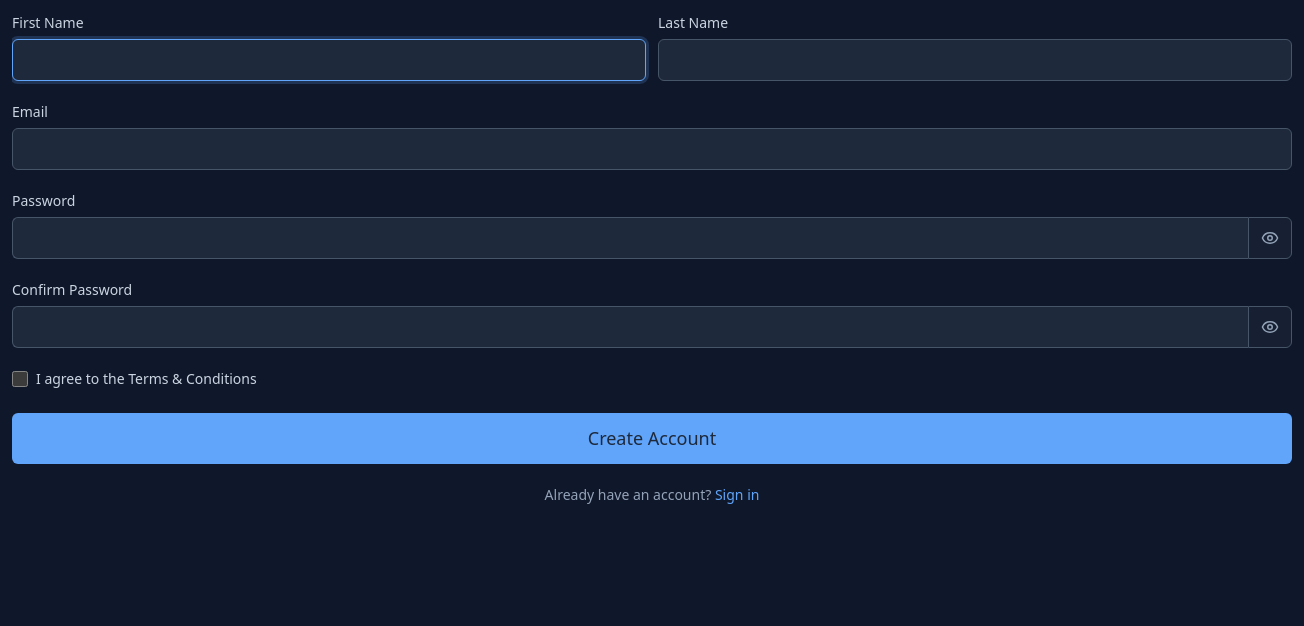
Test: RegisterForm › validation › shows email required error when submitted empty
The image size is (1304, 626).
Click the button "Create Account" at point(652, 438), box [12, 413, 1292, 464]
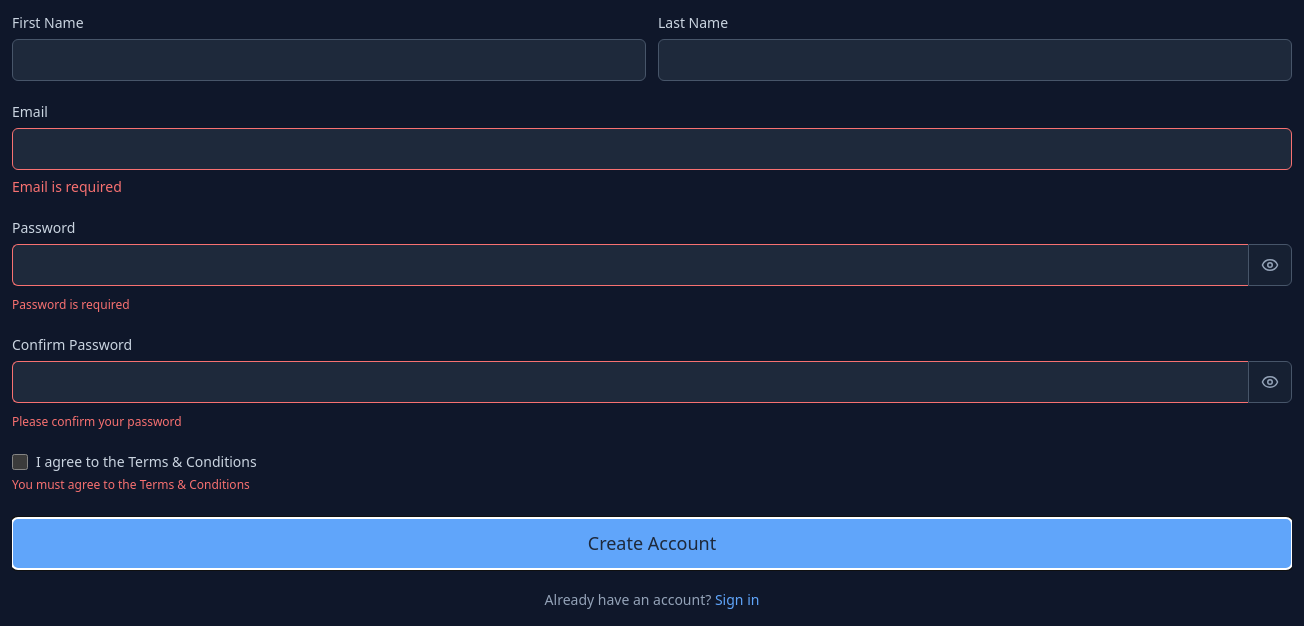
Expected: the text "Email is required" is shown, [12, 177, 122, 196]
